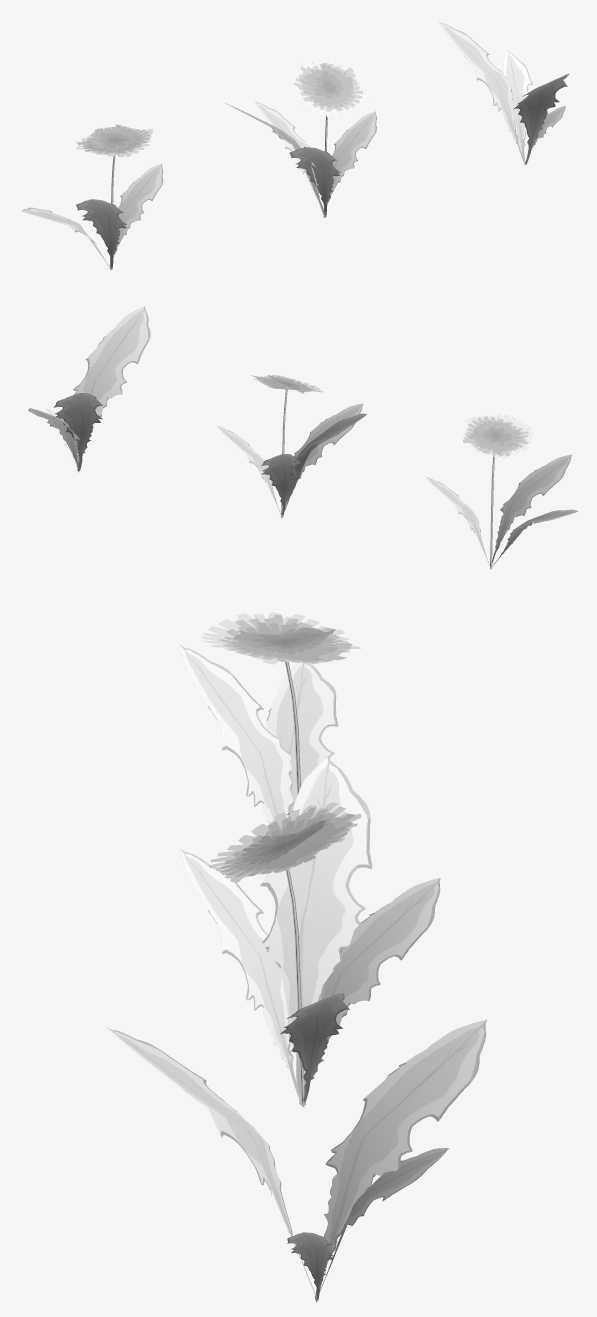
File: dandelion_models.FBX
The picture shows the model from 3 angles, top to bottom: view 1: azimuth 30°, elevation 25°; view 2: azimuth 150°, elevation 25°; view 3: azimuth 270°, elevation 25°; orthographic projection. The views are drawn at different scales.
Visible parts, largest first — view 1: dandelion2, dandelion3, dandelion1; view 2: dandelion1, dandelion3, dandelion2; view 3: dandelion2, dandelion1, dandelion3.
Boxes of the visible parts, bbox=[...] form: dandelion2: bbox=[225, 60, 376, 217]; dandelion3: bbox=[22, 124, 163, 269]; dandelion1: bbox=[439, 22, 569, 165]; dandelion1: bbox=[28, 306, 150, 472]; dandelion3: bbox=[426, 413, 578, 569]; dandelion2: bbox=[217, 374, 366, 517]; dandelion2: bbox=[180, 756, 440, 1107]; dandelion1: bbox=[106, 1020, 487, 1302]; dandelion3: bbox=[180, 612, 360, 822].
Bounding box in the file's own units: 36.59 × 10.22 × 12.02.
